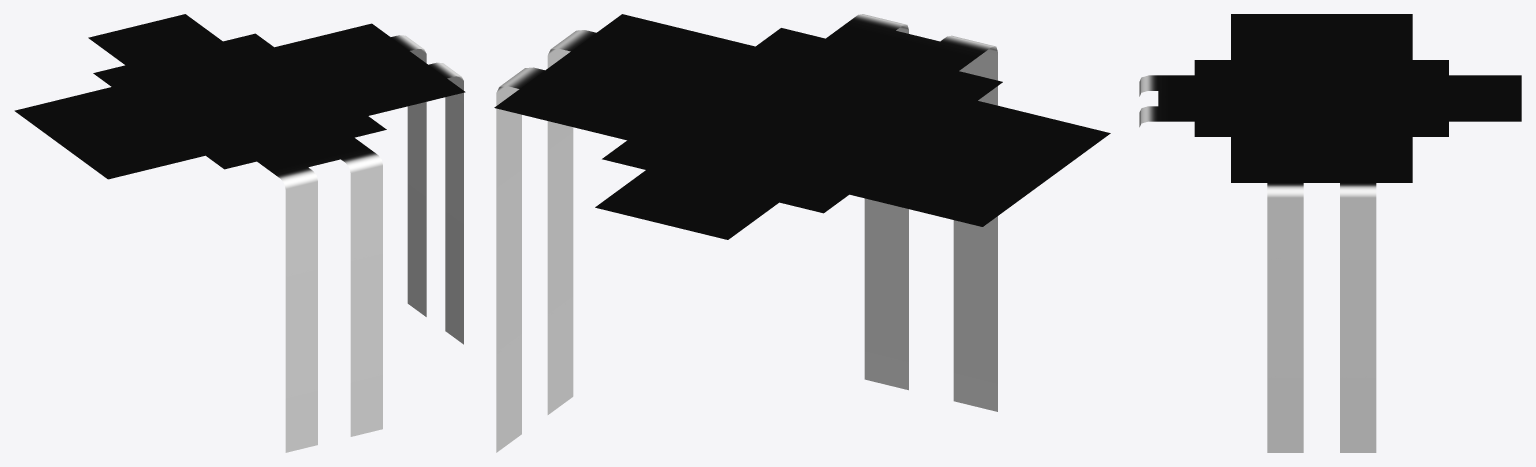
The model's file is PuzzleRoom5Water_MESH.fbx.
3 renders of one model, left to right at view 1: azimuth 30°, elevation 25°; view 2: azimuth 150°, elevation 25°; view 3: azimuth 270°, elevation 25°, orthographic. The views are drawn at different scales.
Parts seen in each view (by area): view 1: base1_room2; view 2: base1_room2; view 3: base1_room2.
Boxes of the visible parts, x1,y1,x2,y2 form: base1_room2: (14,14,465,452); base1_room2: (494,14,1110,452); base1_room2: (1139,14,1521,452).
Size of the model in its own units: 11.52 by 7.95 by 10.52.
